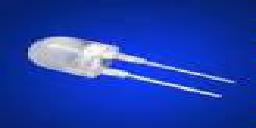LED: (21, 35, 246, 104)
